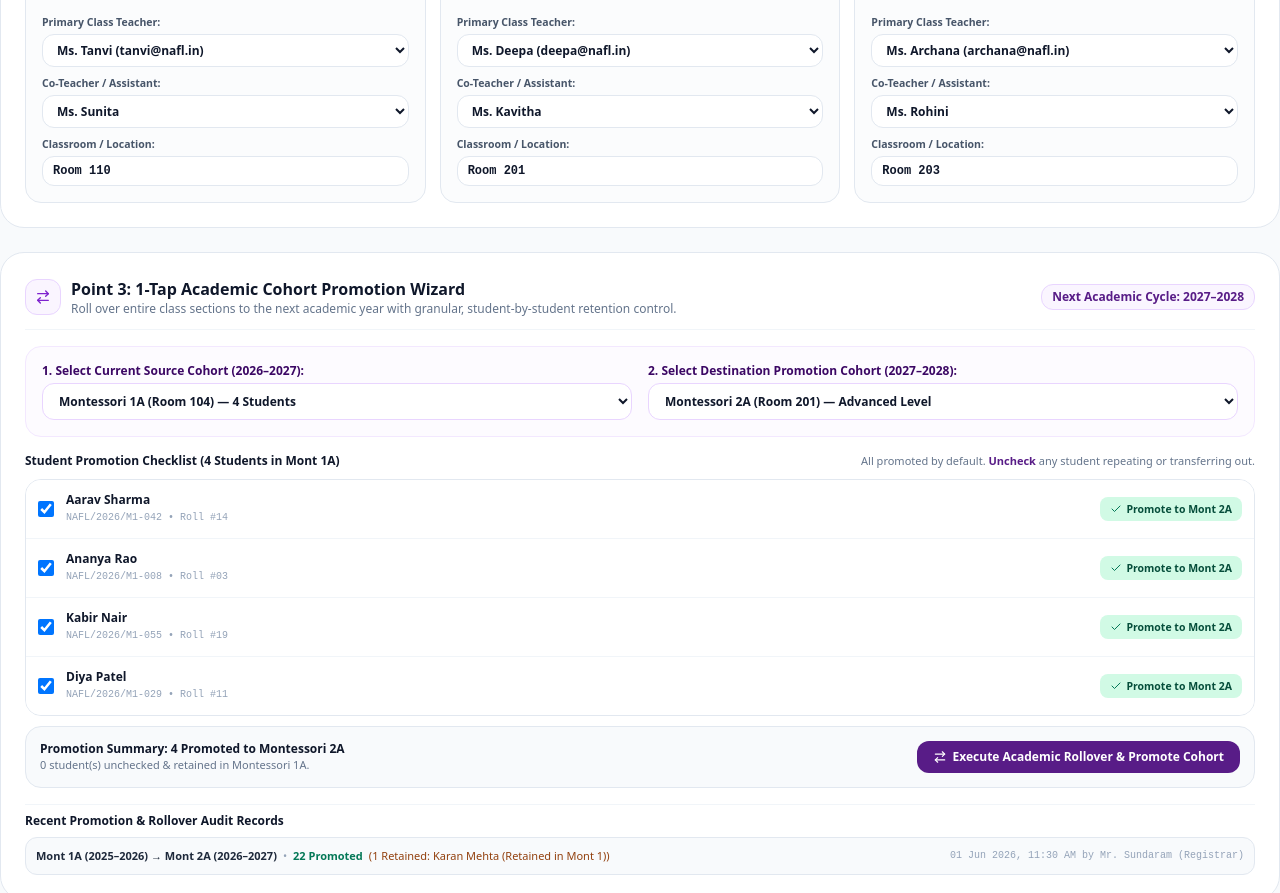
Test case: Suite L: Admin Assistant & Registrar Operations (Annual Mapping & In-Year Admin) › Point 3: executes cohort rollover with student retention flexibility and audit logging
(page scrolled)
# Uncheck first student to retain
Click the checkbox next to "Aarav Sharma" at {"x": 46, "y": 508}, box [38,500,54,516]
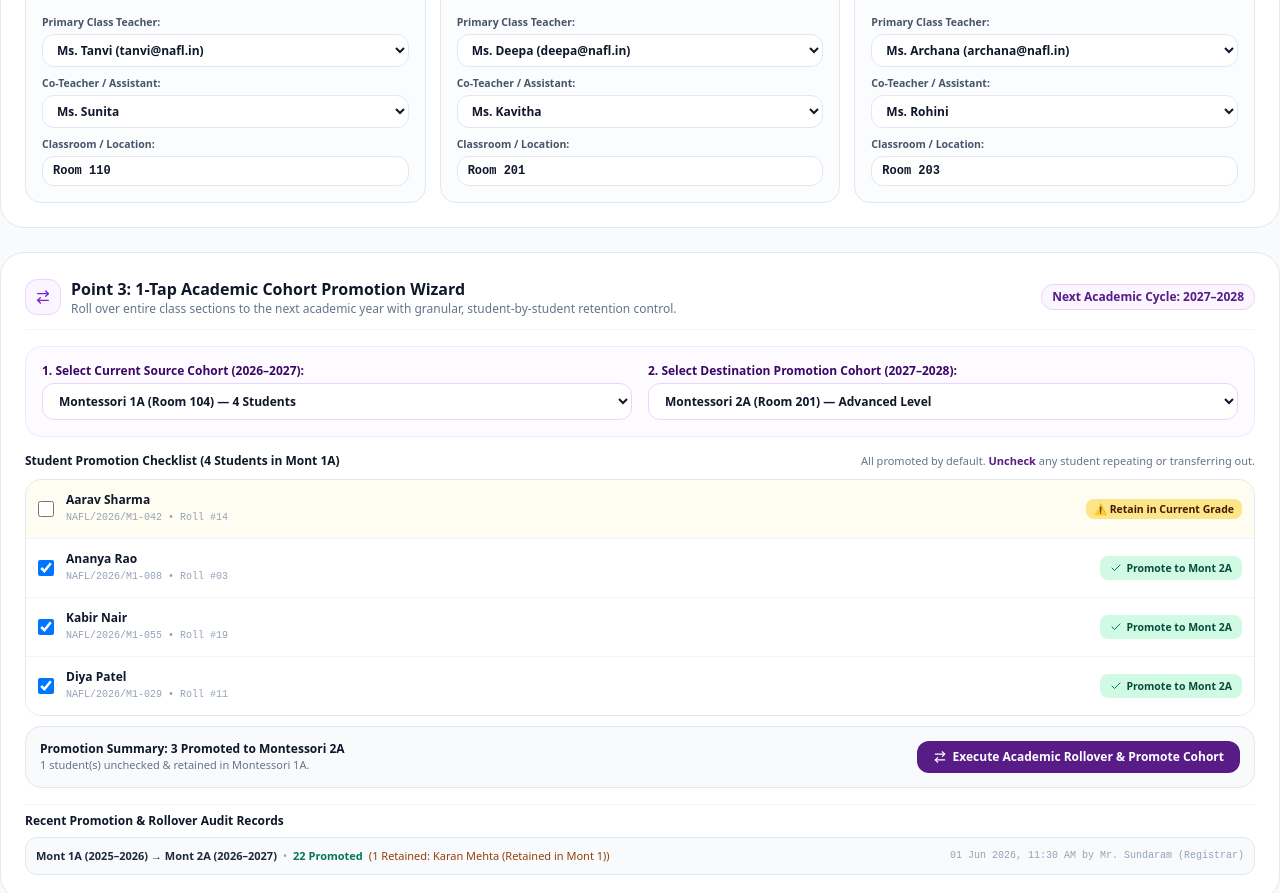
Check: the checkbox next to "Aarav Sharma" is not checked, box [38,500,54,516]
Check: the text "⚠️ Retain in Current Grade" is shown, box [1086,498,1242,518]
Check: the text "Promotion Summary: 3 Promoted to Montessori 2A" is shown, box [40,740,345,756]
# Click execute rollover button
Click the button "Execute Academic Rollover & Promote Cohort" at {"x": 1078, "y": 756}, box [917,740,1240,772]
(page scrolled)
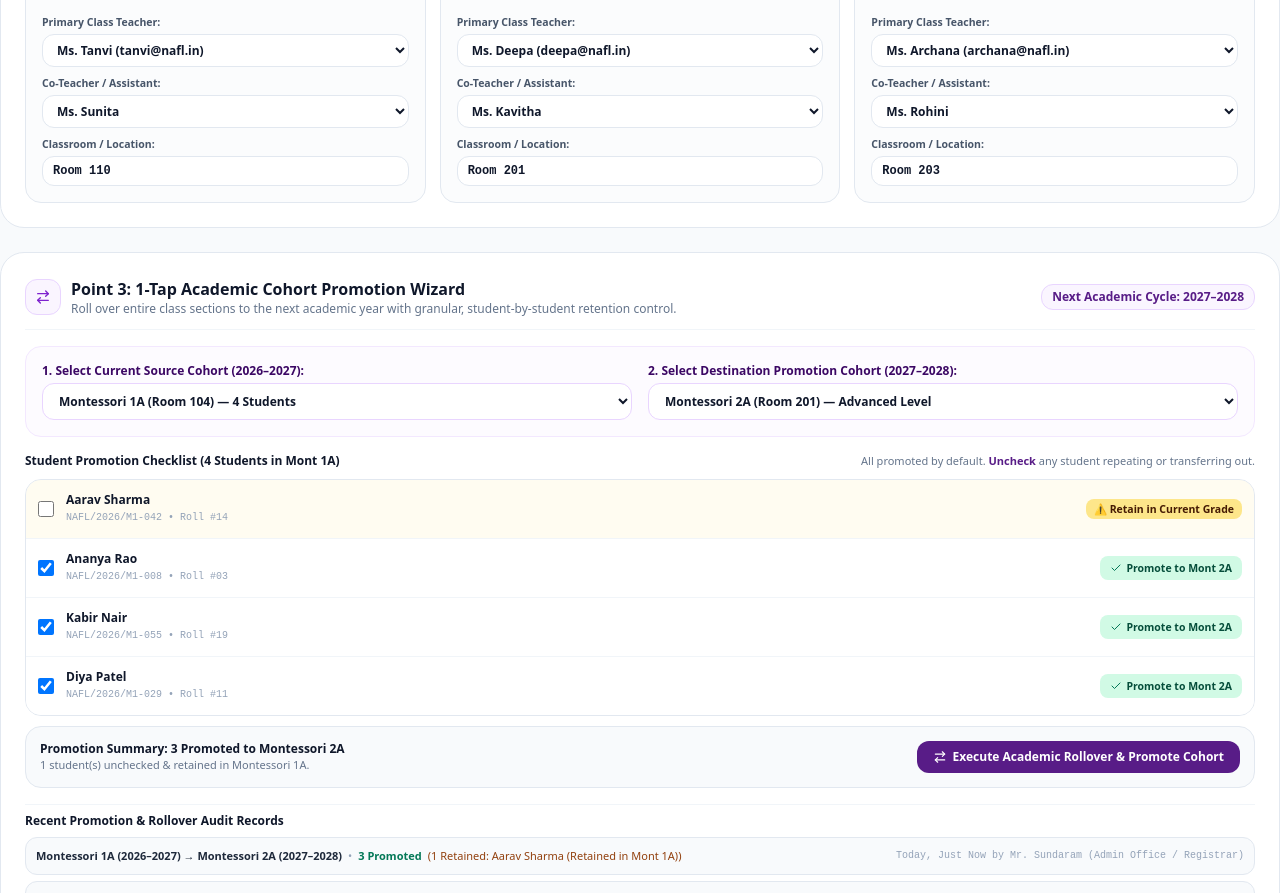
Check: the text "Today, Just Now by Mr. Sundaram (Admin Office / Registrar)" is shown, box [896,848,1244,863]
